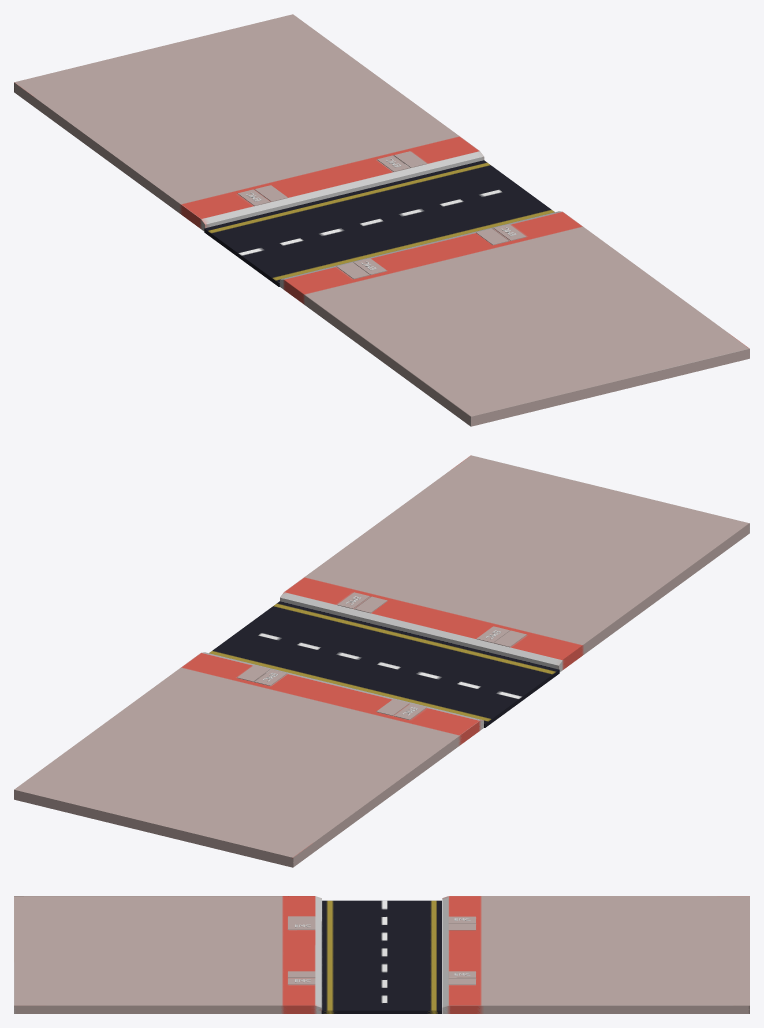
File: CITY ROAD WITH (FINAL).fbx
3 views of the same model, one above another, from view 1: azimuth 30°, elevation 25°; view 2: azimuth 150°, elevation 25°; view 3: azimuth 270°, elevation 25° (orthographic). The views are drawn at different scales.
Visible parts, largest first — view 1: Cube.002; view 2: Cube.002; view 3: Cube.002.
Part boxes in pixels (x1,y1,x2,y2): Cube.002: [14, 14, 749, 426]; Cube.002: [14, 455, 749, 867]; Cube.002: [14, 896, 749, 1013].
Size of the model in its own units: 1681 by 63.35 by 4752.
Materials: 2 (1 with a texture image).
